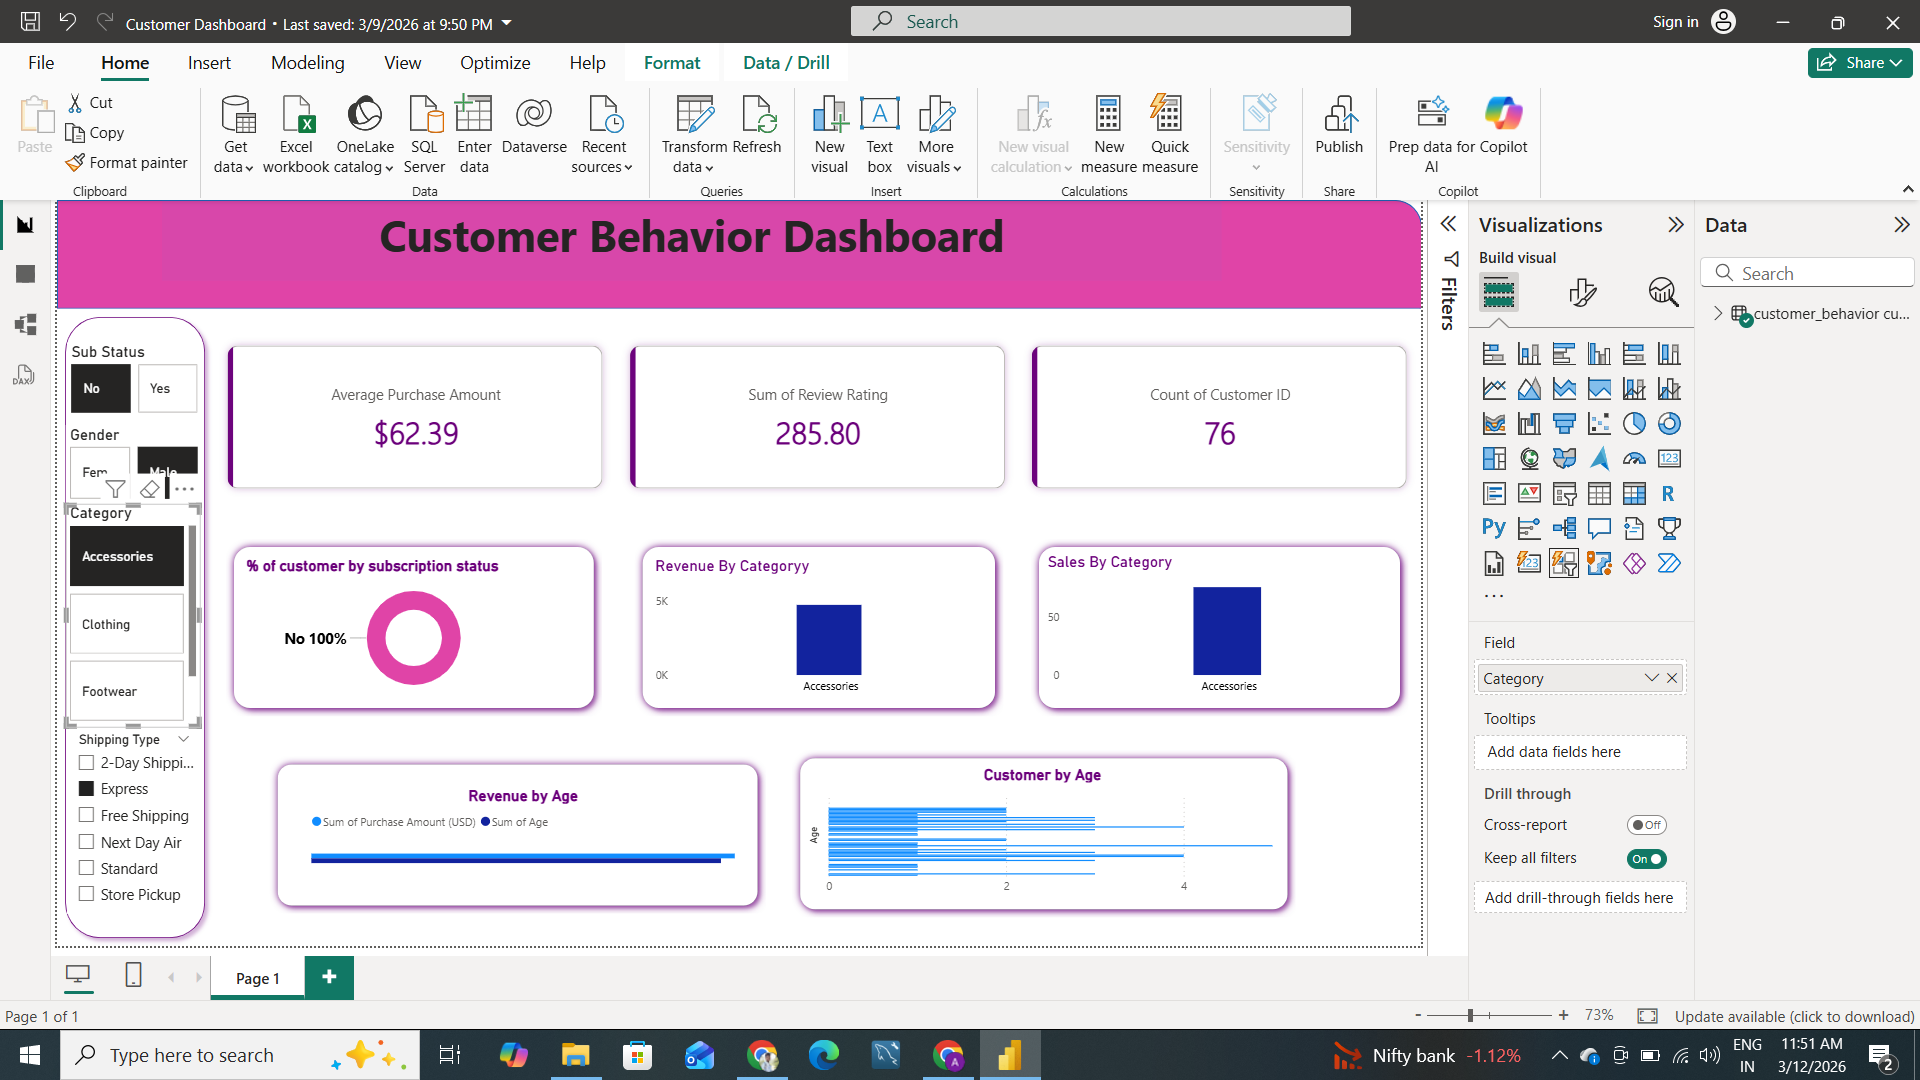

What the dashboard file says about the page in this screenshot:
{"tool":"powerbi","page":{"name":"Page 1","canvas":[1500,820],"ordinal":0},"visuals":[{"type":"cardVisual","fields":{"Data":["customer_behavior customers.Average Purchase Amount","Sum(customer_behavior customers.Review Rating)","CountNonNull(customer_behavior customers.Customer ID)"]},"box":[171.8,144.3,1328.7,189.6],"z":0},{"type":"shape","box":[0,0,1500.4,119.5],"z":1000},{"type":"textbox","box":[115.3,0,1165,89.2],"z":2000},{"type":"shape","box":[185.5,372.4,413.6,195.1],"z":3000},{"type":"donutChart","title":"% of customer by subscription status","fields":{"Category":["customer_behavior customers.Subscription Status"],"Y":["CountNonNull(customer_behavior customers.Customer ID)"]},"box":[203.4,391.6,377.9,160.8],"z":4000},{"type":"shape","box":[634.8,372.4,405.3,195.1],"z":5000},{"type":"shape","box":[1070.3,372.4,414.9,195.1],"z":6000},{"type":"clusteredColumnChart","title":"Revenue By Categoryy","fields":{"Y":["Sum(customer_behavior customers.Purchase Amount (USD))"],"Category":["customer_behavior customers.Category"]},"box":[652.7,391.6,372.4,160.8],"z":7000},{"type":"clusteredColumnChart","title":"Sales By Category","fields":{"Y":["CountNonNull(customer_behavior customers.Customer ID)"],"Category":["customer_behavior customers.Category"]},"box":[1084.1,387.5,386.1,164.9],"z":8000},{"type":"shape","box":[0,119.5,171.8,700.7],"z":9000},{"type":"advancedSlicerVisual","title":"Sub Status","fields":{"Values":["customer_behavior customers.Subscription Status"]},"box":[11,156.6,149.8,82.4],"z":10000},{"type":"advancedSlicerVisual","title":"Gender","fields":{"Values":["customer_behavior customers.Gender"]},"box":[9.6,247.3,151.1,86.6],"z":11000},{"type":"advancedSlicerVisual","title":"Category","fields":{"Values":["customer_behavior customers.Category"]},"box":[9.6,333.9,148.4,245.9],"z":12000},{"type":"slicer","fields":{"Values":["customer_behavior customers.Shipping Type"]},"box":[11,579.8,147,204.7],"z":13000},{"type":"shape","box":[233.6,611.4,545.5,173.1],"z":15000},{"type":"shape","box":[807.9,604.6,553.7,184.1],"z":16000},{"type":"clusteredBarChart","title":"Revenue by Age","fields":{"Y":["Sum(customer_behavior customers.Purchase Amount (USD))","Sum(customer_behavior customers.Age)"]},"box":[274.8,644.4,475.4,104.4],"z":17000},{"type":"clusteredBarChart","title":"Customer by Age","fields":{"Y":["CountNonNull(customer_behavior customers.Customer ID)"],"Category":["customer_behavior customers.Age"]},"box":[821.7,621,523.5,151.1],"z":18000}]}

Visuals, with their boxes on the page's 1500x820 design canvas (x1, y1, x2, y2). These are canvas units, not pixel positions in the 1920x1080 screenshot, which may show the page scaled, cropped or inside an application window:
cardVisual - customer_behavior customers.Average Purchase Amount x Sum(customer_behavior customers.Review Rating): (left=172, top=144, right=1500, bottom=334)
shape: (left=0, top=0, right=1500, bottom=120)
textbox: (left=115, top=0, right=1280, bottom=89)
shape: (left=186, top=372, right=599, bottom=568)
"% of customer by subscription status" donutChart: (left=203, top=392, right=581, bottom=552)
shape: (left=635, top=372, right=1040, bottom=568)
shape: (left=1070, top=372, right=1485, bottom=568)
"Revenue By Categoryy" clusteredColumnChart: (left=653, top=392, right=1025, bottom=552)
"Sales By Category" clusteredColumnChart: (left=1084, top=388, right=1470, bottom=552)
shape: (left=0, top=120, right=172, bottom=820)
"Sub Status" advancedSlicerVisual: (left=11, top=157, right=161, bottom=239)
"Gender" advancedSlicerVisual: (left=10, top=247, right=161, bottom=334)
"Category" advancedSlicerVisual: (left=10, top=334, right=158, bottom=580)
slicer - customer_behavior customers.Shipping Type: (left=11, top=580, right=158, bottom=784)
shape: (left=234, top=611, right=779, bottom=784)
shape: (left=808, top=605, right=1362, bottom=789)
"Revenue by Age" clusteredBarChart: (left=275, top=644, right=750, bottom=749)
"Customer by Age" clusteredBarChart: (left=822, top=621, right=1345, bottom=772)
